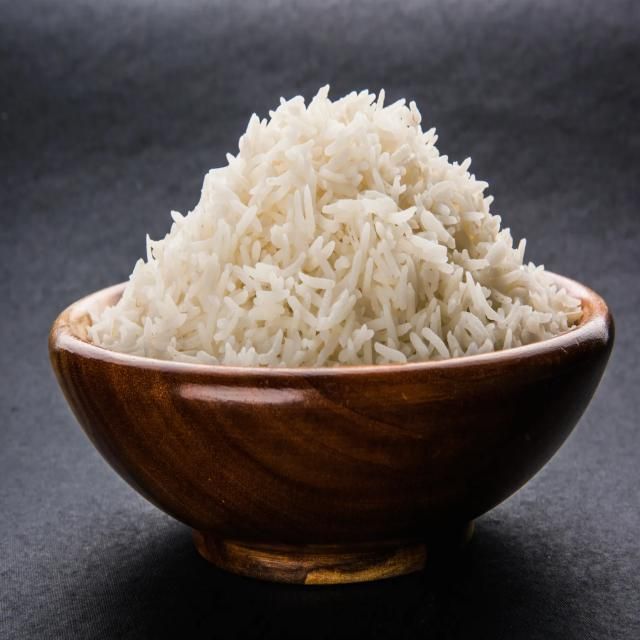Rice: (51, 86, 609, 369)
